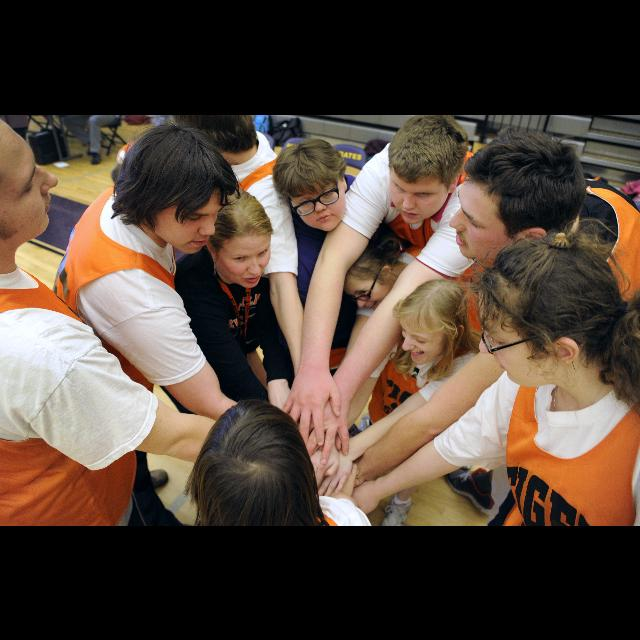head: (478, 233, 622, 387), (448, 132, 584, 260), (120, 123, 230, 254), (124, 123, 230, 254), (388, 114, 466, 224), (204, 191, 272, 289), (280, 140, 346, 232), (400, 280, 468, 366), (338, 245, 396, 312)
person: (278, 114, 522, 468), (153, 113, 340, 474), (263, 132, 397, 490), (308, 217, 452, 467)
